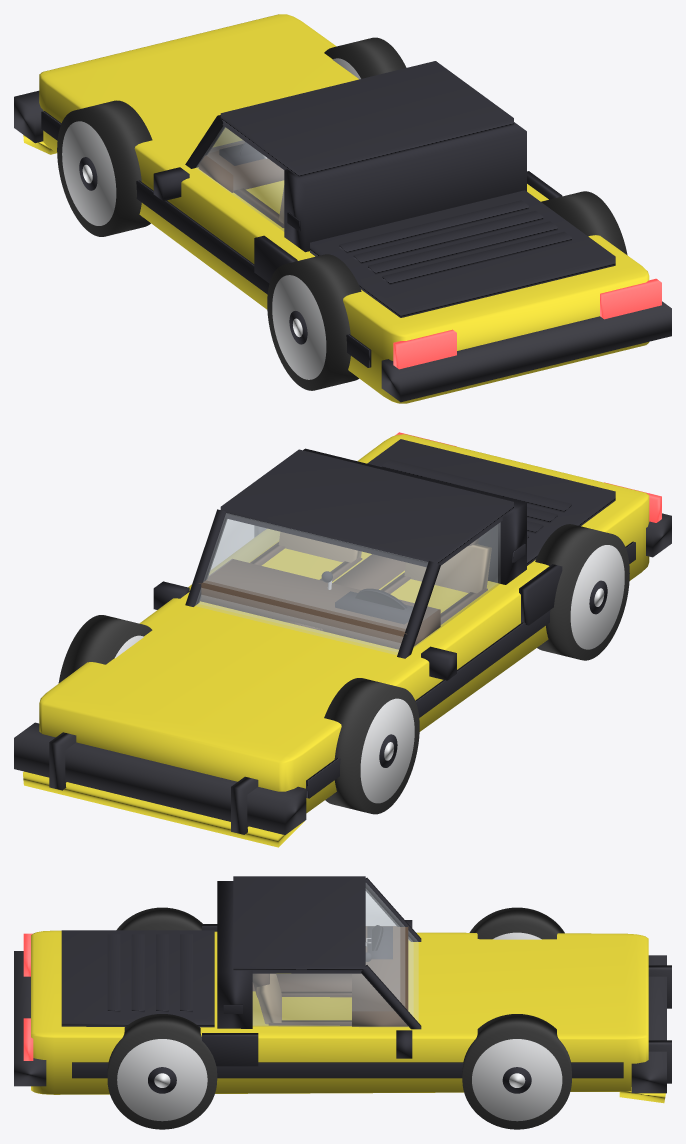
File: modern_car.glb
3 views of the same model, one above another, from view 1: azimuth 30°, elevation 25°; view 2: azimuth 150°, elevation 25°; view 3: azimuth 270°, elevation 25° (orthographic). The views are drawn at different scales.
Parts seen in each view (by area): view 1: Body_Wedge_Hull, Roof_Targa_Black_Top, Roof_Targa_B_Pillar, Engine_Deck_Lid, Rear_Bumper_Black, Wheel_FL_Tire, Wheel_RL_Tire, Glass_Side_Window_Left, Wheel_FL_Rim_Lip, Wheel_RL_Rim_Lip, Side_Black_Stripe_-0.8, Wheel_RR_Tire (+12 smaller); view 2: Body_Wedge_Hull, Roof_Targa_Black_Top, Glass_Windshield, Front_Bumper_Bar_Black, Interior_Dash_Main, Engine_Deck_Lid, Wheel_FL_Tire, Wheel_RL_Tire, Glass_Side_Window_Left, Wheel_FL_Rim_Lip, Wheel_RL_Rim_Lip, Front_Chin_Spoiler_Yellow (+17 smaller); view 3: Body_Wedge_Hull, Roof_Targa_Black_Top, Engine_Deck_Lid, Glass_Side_Window_Right, Side_Black_Stripe_0.8, Wheel_FR_Rim_Lip, Wheel_RR_Rim_Lip, Wheel_FR_Tire, Wheel_RR_Tire, Glass_Windshield, Interior_Dash_Main, Roof_Targa_B_Pillar (+23 smaller).
Part boxes in pixels (x1,y1,x2,y2): Body_Wedge_Hull: (39, 14, 649, 403); Roof_Targa_Black_Top: (220, 61, 513, 177); Roof_Targa_B_Pillar: (284, 122, 526, 252); Engine_Deck_Lid: (310, 190, 615, 317); Rear_Bumper_Black: (381, 301, 671, 402); Wheel_FL_Tire: (57, 100, 152, 236); Wheel_RL_Tire: (267, 254, 361, 390); Glass_Side_Window_Left: (196, 126, 284, 231); Wheel_FL_Rim_Lip: (62, 121, 116, 225); Wheel_RL_Rim_Lip: (272, 275, 326, 379); Side_Black_Stripe_-0.8: (41, 111, 371, 367); Wheel_RR_Tire: (541, 191, 627, 255); Body_Wedge_Hull: (39, 434, 649, 813); Roof_Targa_Black_Top: (220, 449, 513, 567); Glass_Windshield: (195, 513, 427, 654); Front_Bumper_Bar_Black: (14, 722, 306, 834); Interior_Dash_Main: (198, 559, 440, 649); Engine_Deck_Lid: (367, 439, 615, 565); Wheel_FL_Tire: (324, 678, 419, 814); Wheel_RL_Tire: (535, 524, 629, 660); Glass_Side_Window_Left: (414, 523, 500, 647); Wheel_FL_Rim_Lip: (360, 698, 414, 803); Wheel_RL_Rim_Lip: (570, 545, 624, 649); Front_Chin_Spoiler_Yellow: (23, 771, 304, 847); Body_Wedge_Hull: (31, 930, 648, 1094); Roof_Targa_Black_Top: (233, 876, 365, 973); Engine_Deck_Lid: (61, 930, 214, 1027); Glass_Side_Window_Right: (252, 973, 408, 1026); Side_Black_Stripe_0.8: (72, 1062, 623, 1078); Wheel_FR_Rim_Lip: (472, 1039, 562, 1121); Wheel_RR_Rim_Lip: (117, 1039, 207, 1121); Wheel_FR_Tire: (462, 1014, 571, 1129); Wheel_RR_Tire: (107, 1014, 217, 1129); Glass_Windshield: (365, 883, 418, 1021); Interior_Dash_Main: (352, 926, 408, 1026); Roof_Targa_B_Pillar: (217, 881, 252, 1028).
Size of the model in its own units: 1.82 by 1.01 by 4.08.
